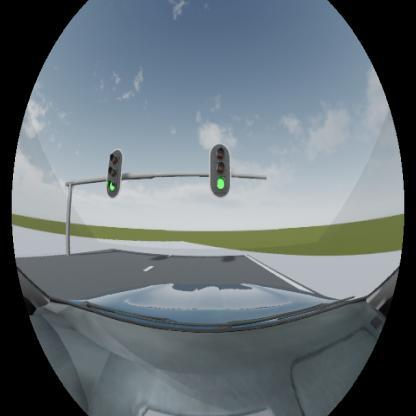Green Light: (210, 144, 232, 198), (108, 150, 122, 198)
